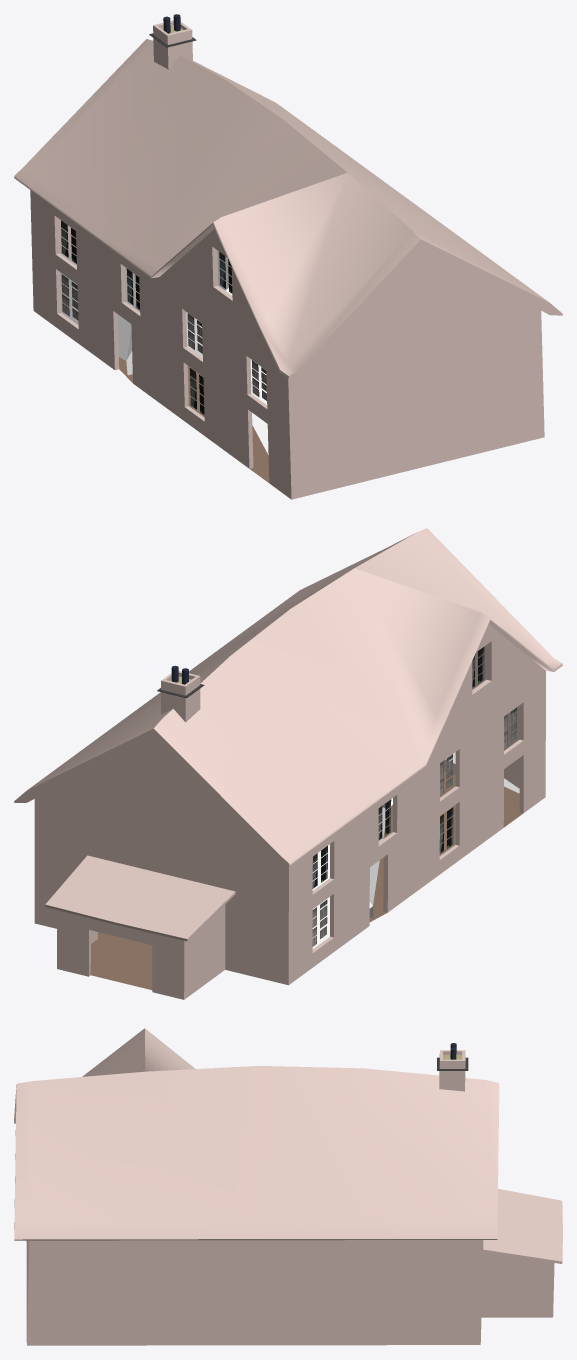
Rendered from HouseERoot.fbx.
The picture shows the model from 3 angles, top to bottom: view 1: azimuth 30°, elevation 25°; view 2: azimuth 150°, elevation 25°; view 3: azimuth 270°, elevation 25°; orthographic projection. The views are drawn at different scales.
Visible parts, largest first — view 1: Body_sh_4, Body_sh_5, Body_sh_11, Body_sh_7, Body_sh_8, Body_sh_2, Body_sh_6, Body_sh_9, Body_sh_1, Body_sh_3, Body_sh_15; view 2: Body_sh_1, Body_sh_11, Body_sh_4, Body_sh_2, Body_sh_7, Body_sh_8, Body_sh_3, Body_sh_9, Body_sh_6, Body_sh_5, Body_sh_15, Body_sh_10; view 3: Body_sh_3, Body_sh_5, Body_sh_8, Body_sh_1, Body_sh_4, Body_sh_6, Body_sh_7, Body_sh_13.
Boxes of the visible parts, <box> form: Body_sh_4: <box>190,164,412,499</box>; Body_sh_5: <box>393,209,562,464</box>; Body_sh_11: <box>14,115,137,363</box>; Body_sh_7: <box>125,55,294,242</box>; Body_sh_8: <box>126,172,457,494</box>; Body_sh_2: <box>120,130,266,314</box>; Body_sh_6: <box>250,109,380,200</box>; Body_sh_9: <box>24,39,154,166</box>; Body_sh_1: <box>60,246,202,375</box>; Body_sh_3: <box>192,61,415,204</box>; Body_sh_15: <box>149,20,192,69</box>; Body_sh_1: <box>34,806,375,999</box>; Body_sh_11: <box>197,755,395,985</box>; Body_sh_4: <box>257,538,562,802</box>; Body_sh_2: <box>293,642,476,808</box>; Body_sh_7: <box>187,621,383,779</box>; Body_sh_8: <box>189,628,537,918</box>; Body_sh_3: <box>14,638,246,834</box>; Body_sh_9: <box>137,715,279,856</box>; Body_sh_6: <box>239,575,390,645</box>; Body_sh_5: <box>212,528,451,654</box>; Body_sh_15: <box>166,671,204,721</box>; Body_sh_10: <box>163,912,211,942</box>; Body_sh_3: <box>240,1077,499,1324</box>; Body_sh_5: <box>14,1079,174,1345</box>; Body_sh_8: <box>26,1148,320,1345</box>; Body_sh_1: <box>317,1193,562,1345</box>; Body_sh_4: <box>14,1028,201,1247</box>; Body_sh_6: <box>164,1066,285,1148</box>; Body_sh_7: <box>284,1066,439,1100</box>; Body_sh_13: <box>437,1058,468,1091</box>.
Size of the model in its own units: 737 by 703 by 1437.
